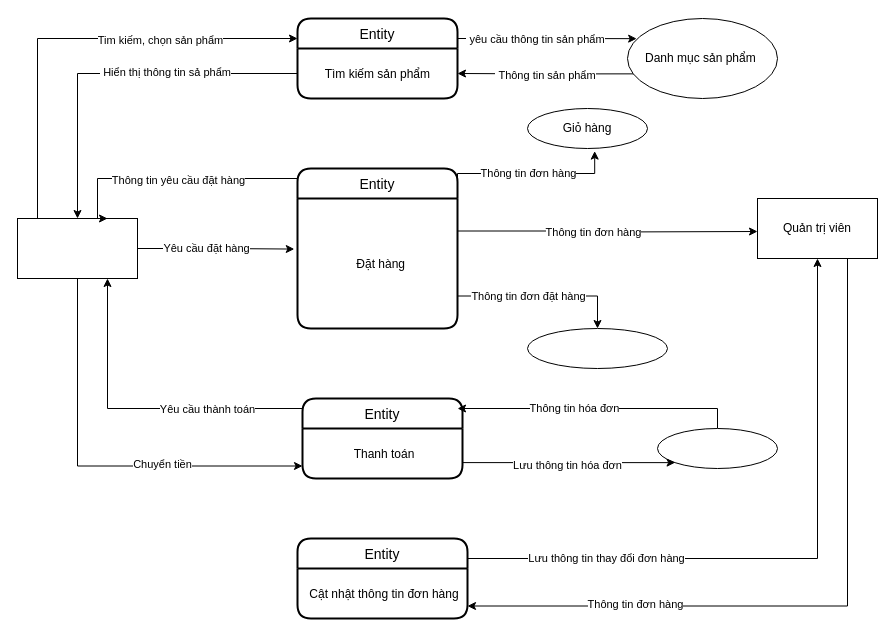
This 895x636 diagram has some shape labels left out. Here are the shapes that lost their labels. From the top down, the centre of each, then its label:
At point 77,248: "Khách hàng".
At point 597,348: "Đơn đặt hàng".
At point 717,448: "Hóa đơn".
